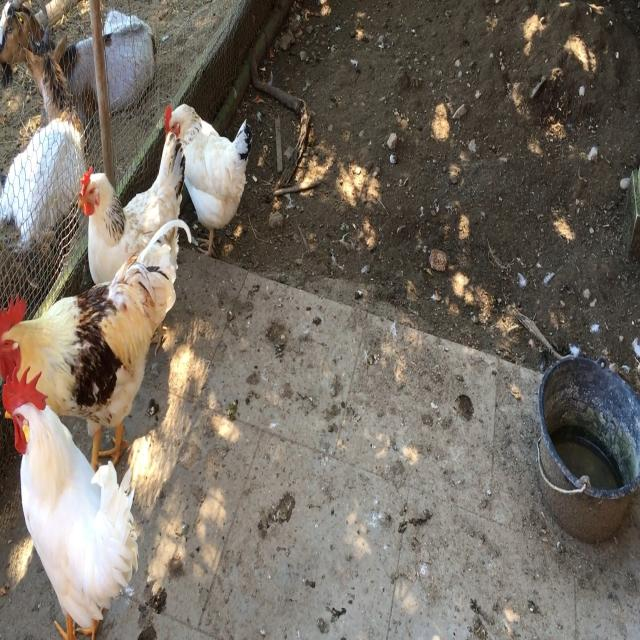chicken: (6, 371, 146, 640), (7, 243, 176, 458), (153, 78, 257, 250)
